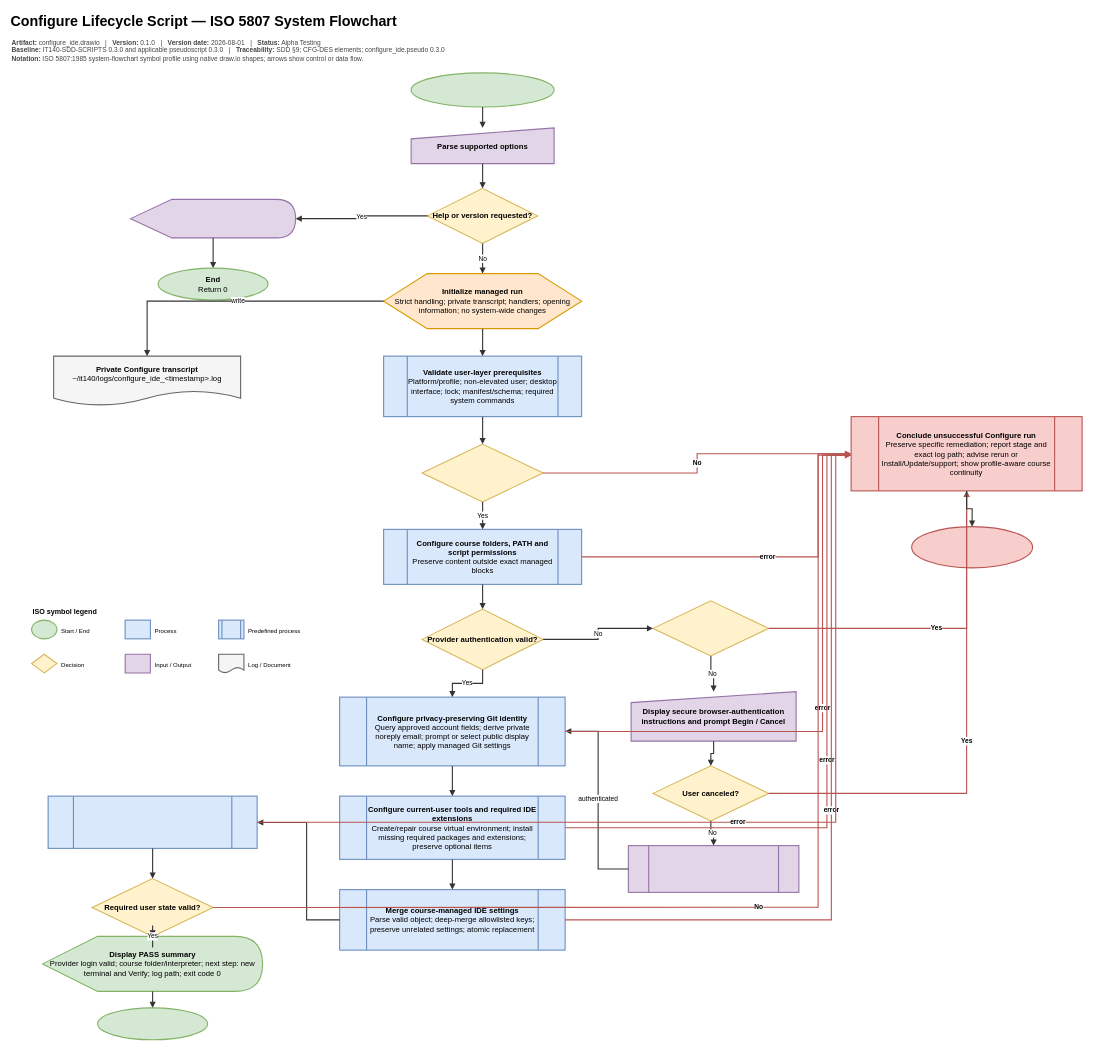
Image size: 1102x1049. Some labels were removed from this diagram. The box of each missing label's shape, as (x1, y1, x2, y2) in pixels:
Configure desktop integrations and post-validate user layer: (47, 795, 257, 849)
Display requested information: (130, 199, 296, 238)
End Configure Close transcript and return 0: (97, 1007, 208, 1040)
End Return 7 if user state changed; otherwise applicable nonzero code: (911, 526, 1033, 568)
Noninteractive run?: (652, 600, 769, 656)
Prerequisites valid?: (421, 443, 543, 502)
Run provider-owned secure web authentication and revalidate: (628, 845, 799, 893)
Start Configure: (410, 72, 554, 107)
